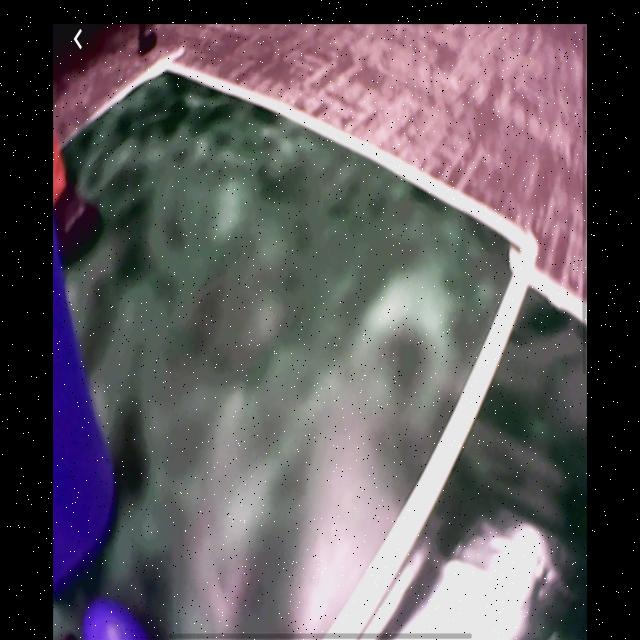ball: (83, 595, 147, 640)
